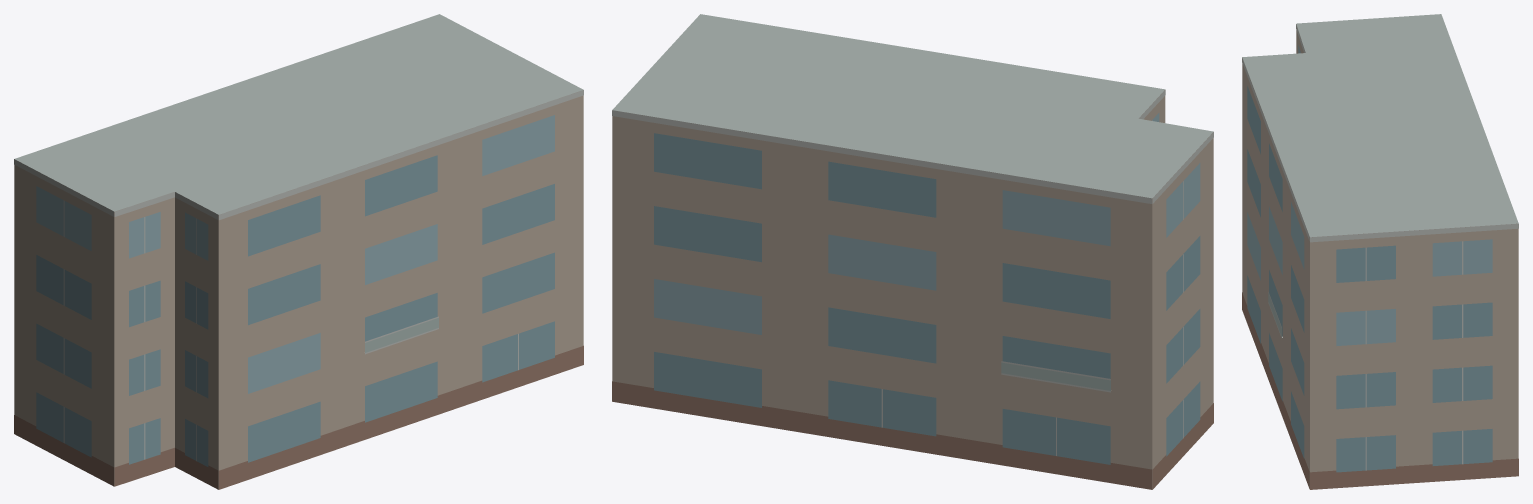
File: survey-upis-32712665.glb
3 renders of one model, left to right at view 1: azimuth 30°, elevation 25°; view 2: azimuth 150°, elevation 25°; view 3: azimuth 270°, elevation 25°, orthographic. The views are drawn at different scales.
Visible parts, largest first — view 1: survey-upis-32712665.tmp; view 2: survey-upis-32712665.tmp; view 3: survey-upis-32712665.tmp.
Boxes of the visible parts, <box> form: survey-upis-32712665.tmp: <box>14,14,583,489</box>; survey-upis-32712665.tmp: <box>612,14,1213,489</box>; survey-upis-32712665.tmp: <box>1242,14,1518,489</box>.
Size of the model in its own units: 22.89 by 12.07 by 11.99.
